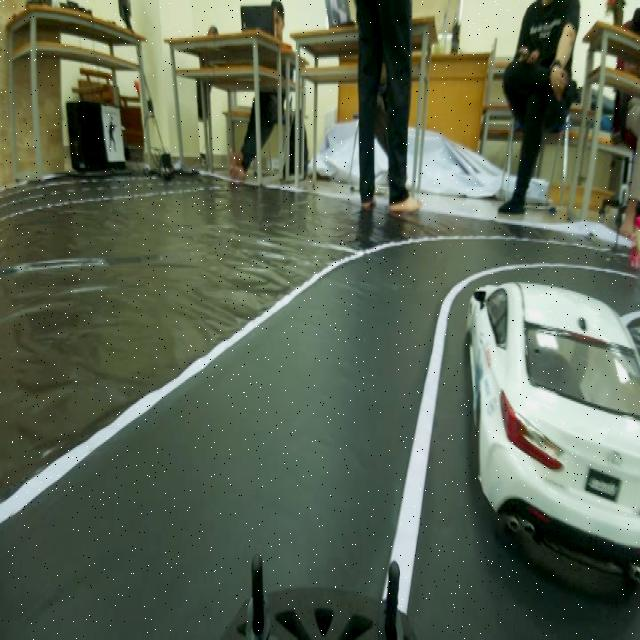car: (465, 259, 640, 573)
